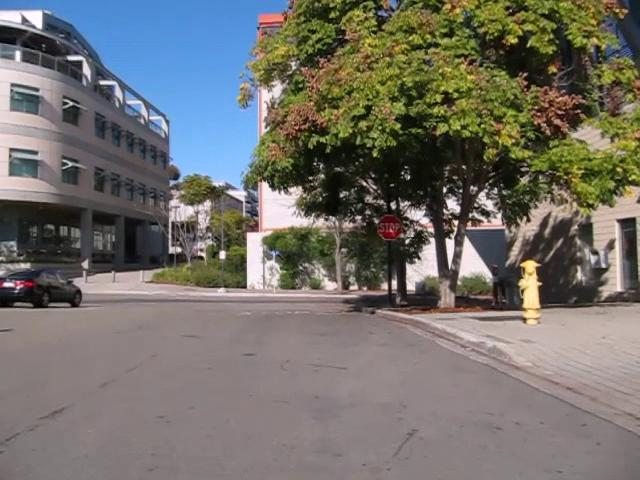stop: (376, 214, 403, 240)
